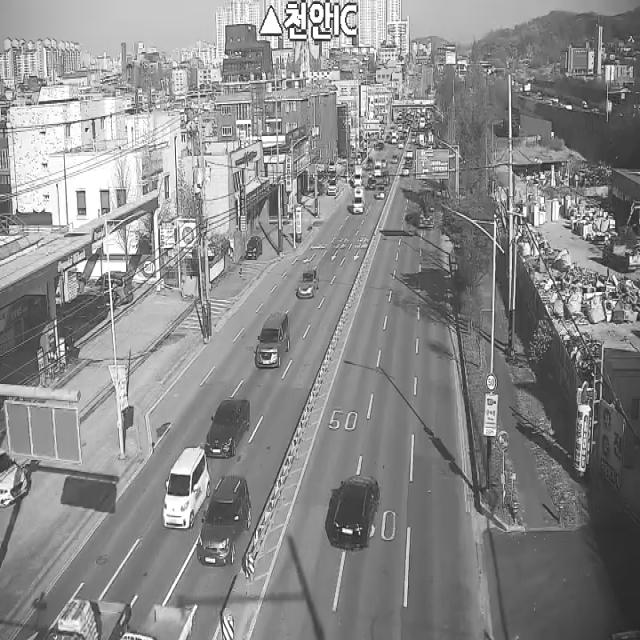Car: (197, 475, 252, 568), (162, 446, 211, 530), (330, 474, 380, 551), (204, 397, 250, 459), (256, 312, 290, 369), (0, 448, 29, 509), (96, 271, 133, 306), (297, 264, 319, 299), (245, 236, 263, 260), (327, 178, 339, 196), (375, 183, 386, 200), (368, 178, 376, 190)
Truck: (46, 581, 131, 640), (121, 604, 199, 640), (418, 187, 436, 229), (353, 185, 366, 213), (353, 165, 363, 187)
